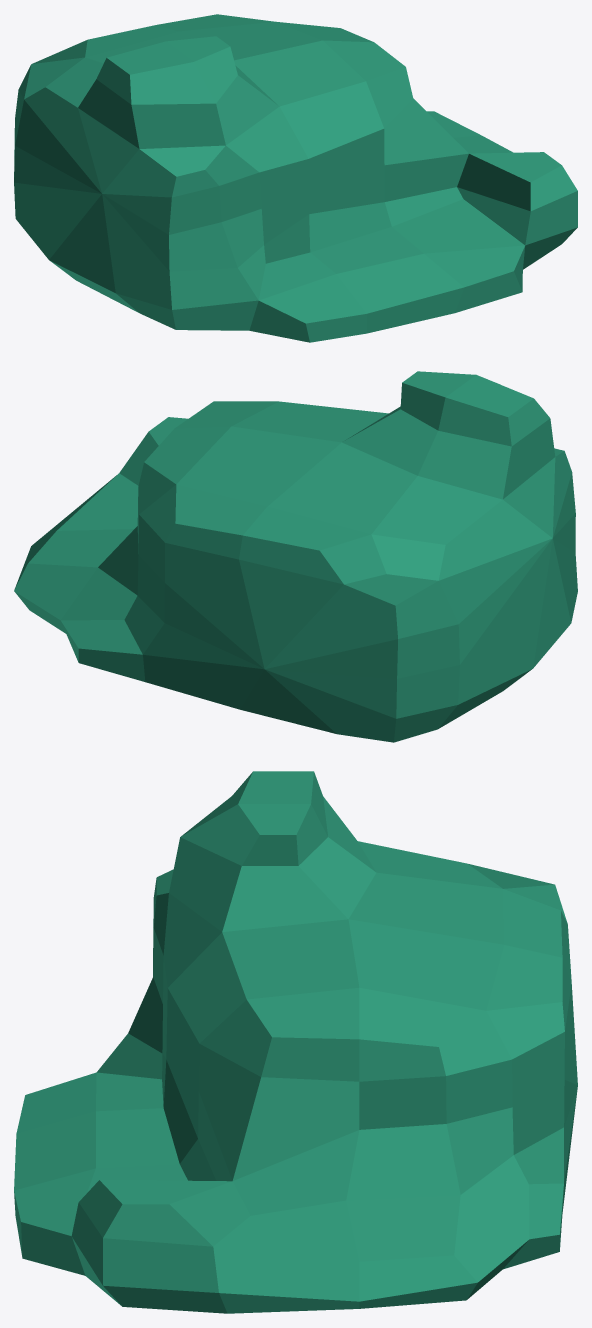
Rendered from SM_B_Dirtpile_01.fbx.
The picture shows the model from 3 angles, top to bottom: view 1: azimuth 30°, elevation 25°; view 2: azimuth 150°, elevation 25°; view 3: azimuth 270°, elevation 25°; orthographic projection. The views are drawn at different scales.
Visible parts, largest first — view 1: SM_B_Dirtpile_01; view 2: SM_B_Dirtpile_01; view 3: SM_B_Dirtpile_01.
Boxes of the visible parts, <box> form: SM_B_Dirtpile_01: <box>14,14,577,342</box>; SM_B_Dirtpile_01: <box>14,371,577,742</box>; SM_B_Dirtpile_01: <box>14,771,577,1313</box>.
Size of the model in its own units: 625 by 319 by 516.
